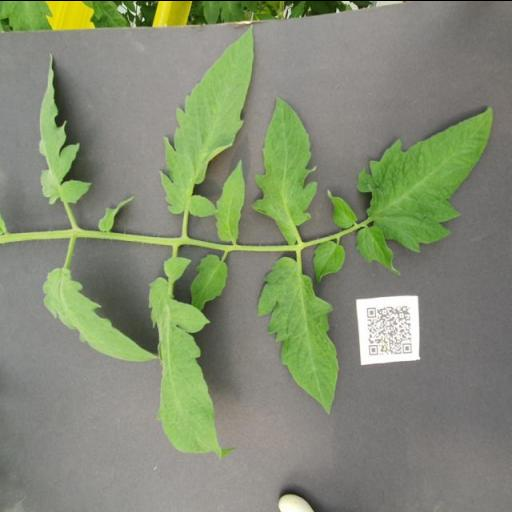Healthy: (356, 105, 494, 253), (158, 23, 256, 217), (148, 254, 238, 458), (257, 254, 339, 414), (42, 266, 160, 360), (250, 94, 318, 244), (38, 51, 92, 204), (214, 158, 246, 241), (189, 254, 228, 310)
